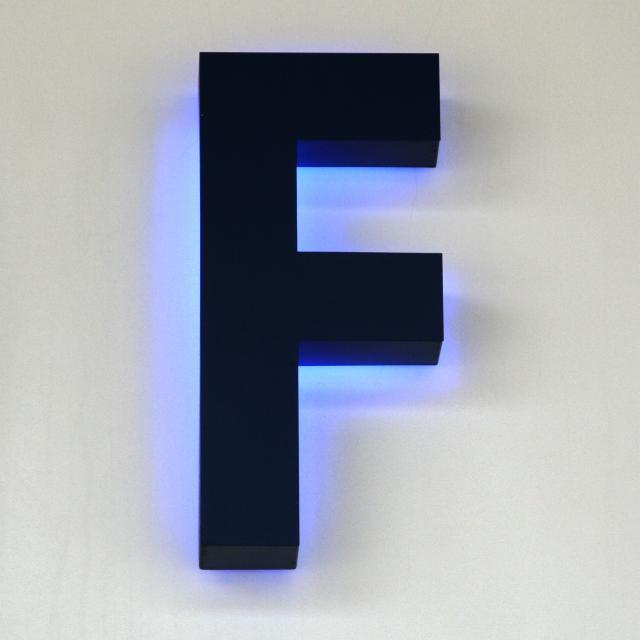F: (103, 7, 477, 611)
